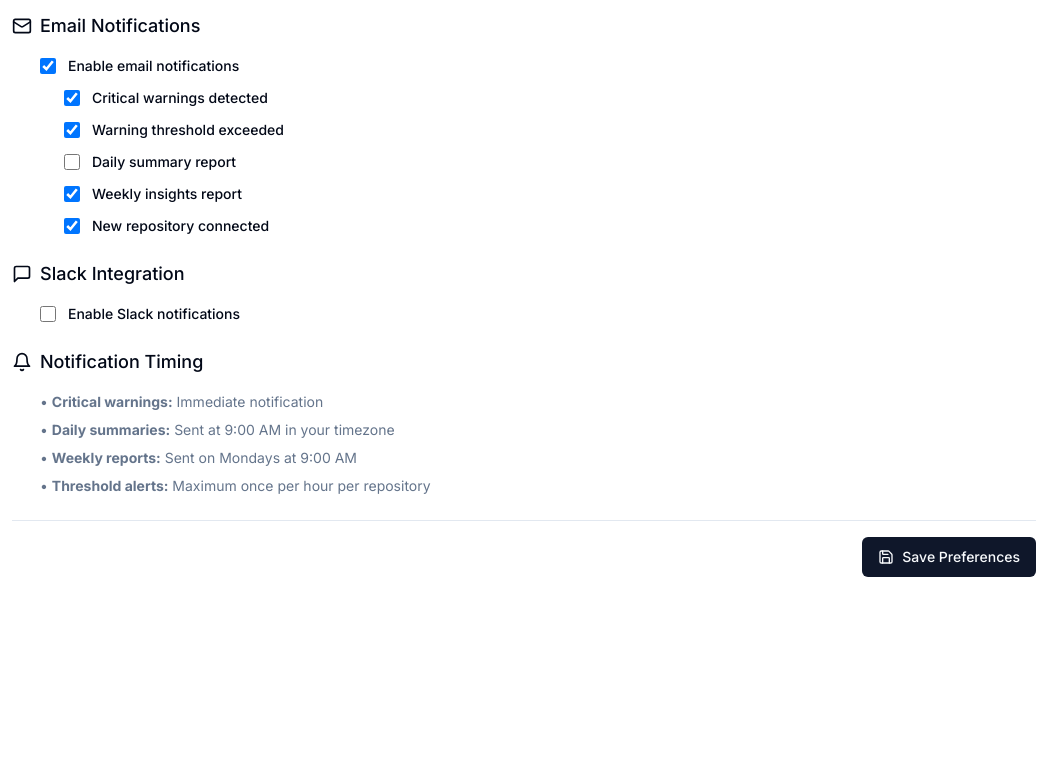
Test: NotificationSettings › saves notification preferences successfully
This screenshot has width=1048, height=780.
# Change a preference
Click the checkbox labelled "Daily summary report".
click(72, 162)  # box [64,154,80,170]
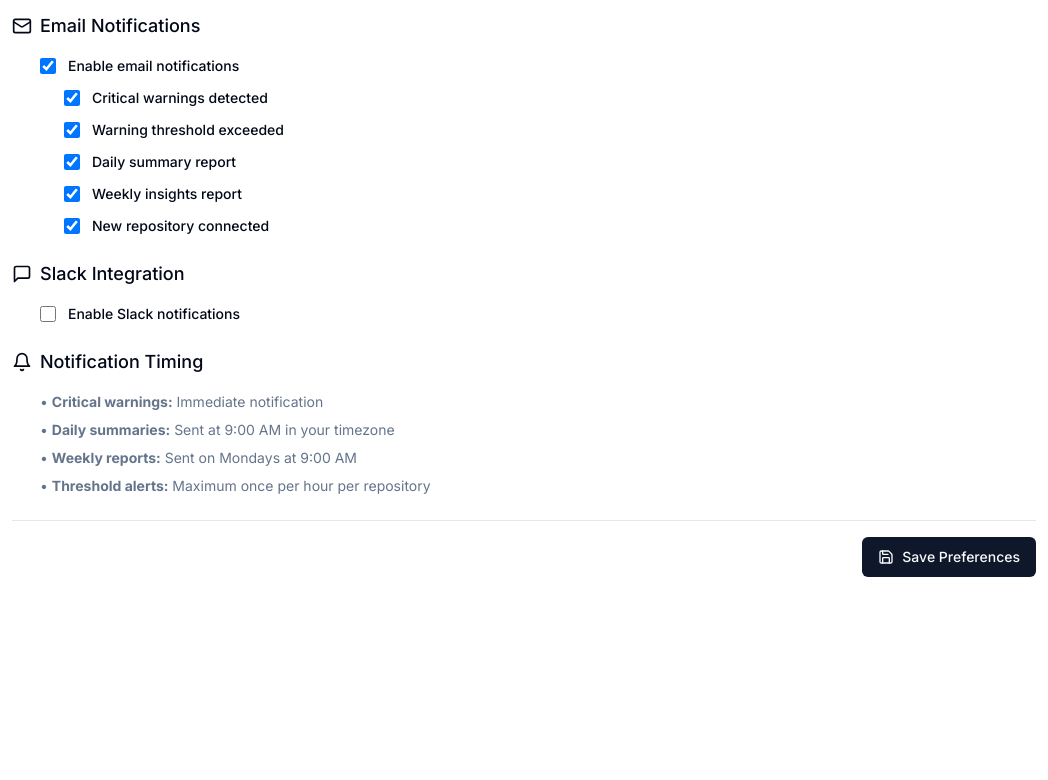
# Save preferences
Click the button "Save Preferences".
click(949, 557)  # box [862,537,1036,577]
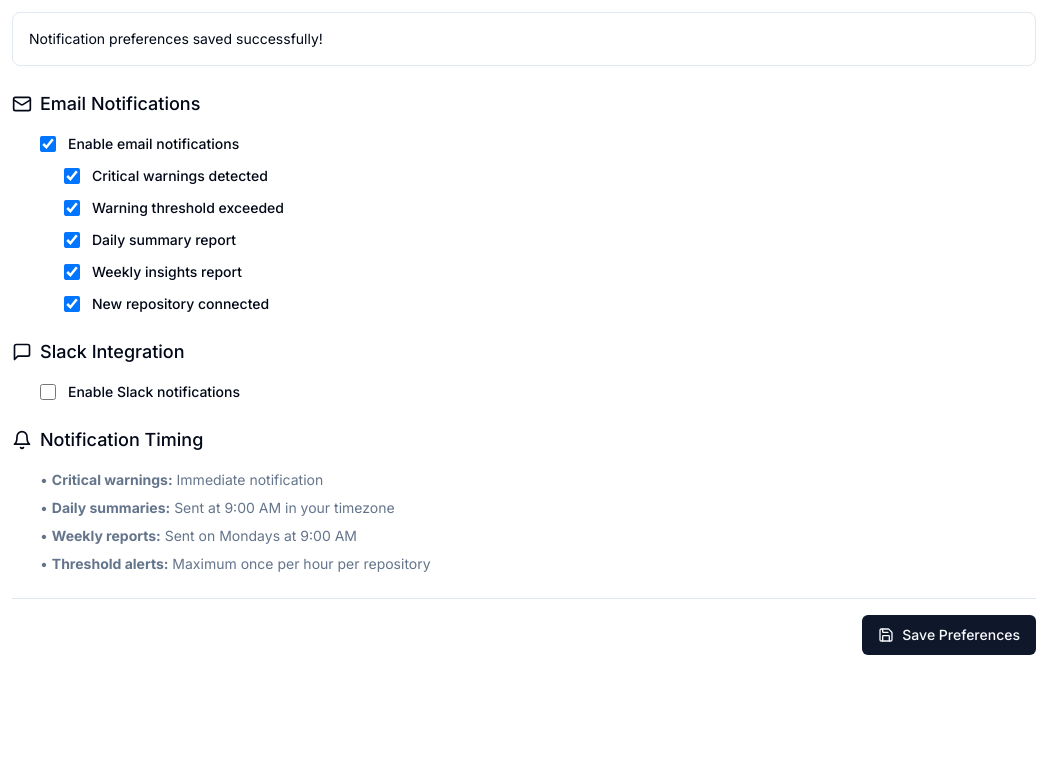
Expected: the text "Notification preferences saved successfully!" is shown, [29,30,323,47]
